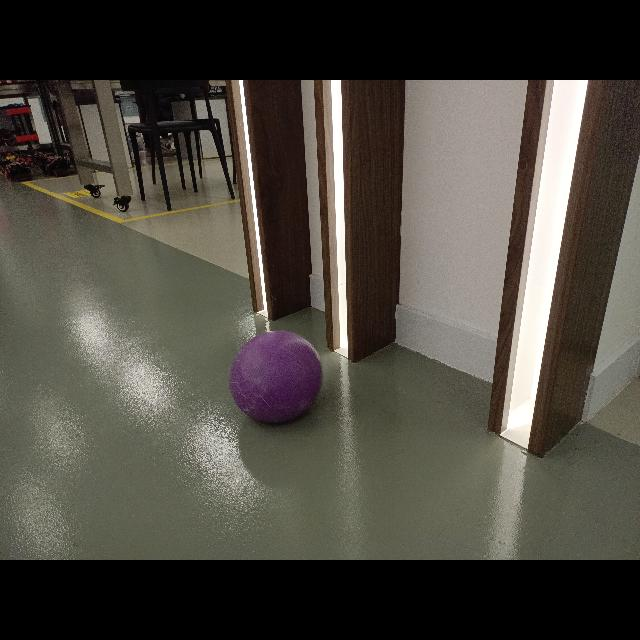P: (228, 330, 322, 424)
